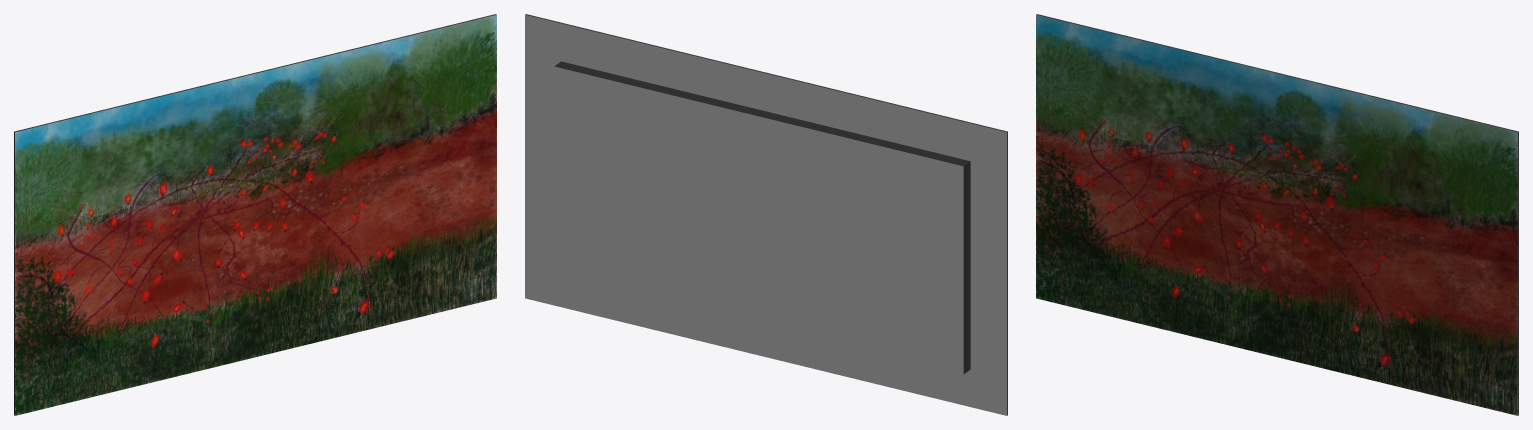
File: hz041_moyen_dibond.glb
The picture shows the model from 3 angles, left to right: view 1: azimuth 30°, elevation 25°; view 2: azimuth 150°, elevation 25°; view 3: azimuth 330°, elevation 25°; orthographic projection.
Visible parts, largest first — view 1: hz041_moyen_dibond; view 2: hz041_moyen_dibond; view 3: hz041_moyen_dibond.
Boxes of the visible parts, box(x1,y1,x2,y2) form: hz041_moyen_dibond: box(14, 14, 496, 415); hz041_moyen_dibond: box(525, 14, 1007, 415); hz041_moyen_dibond: box(1036, 14, 1518, 415).
Bounding box in the file's own units: 0.8 × 0.45 × 0.023.
Materials: 4 (1 with a texture image).
